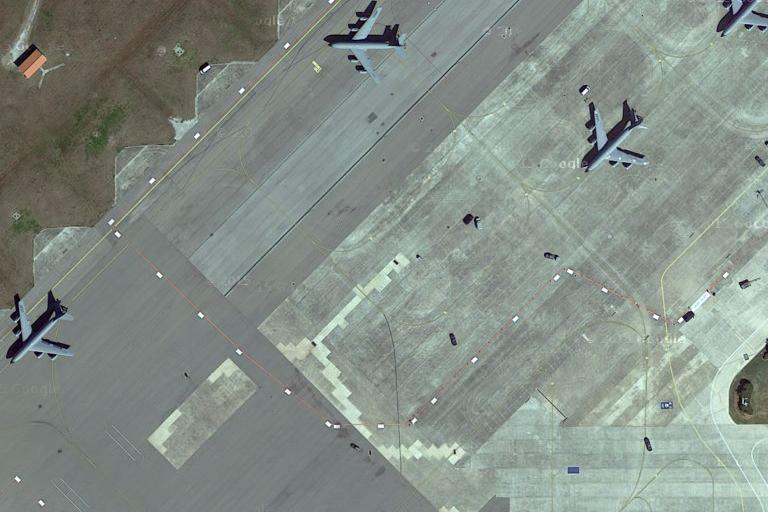KC-135: (320, 1, 413, 83), (580, 102, 655, 177), (8, 288, 79, 363)
